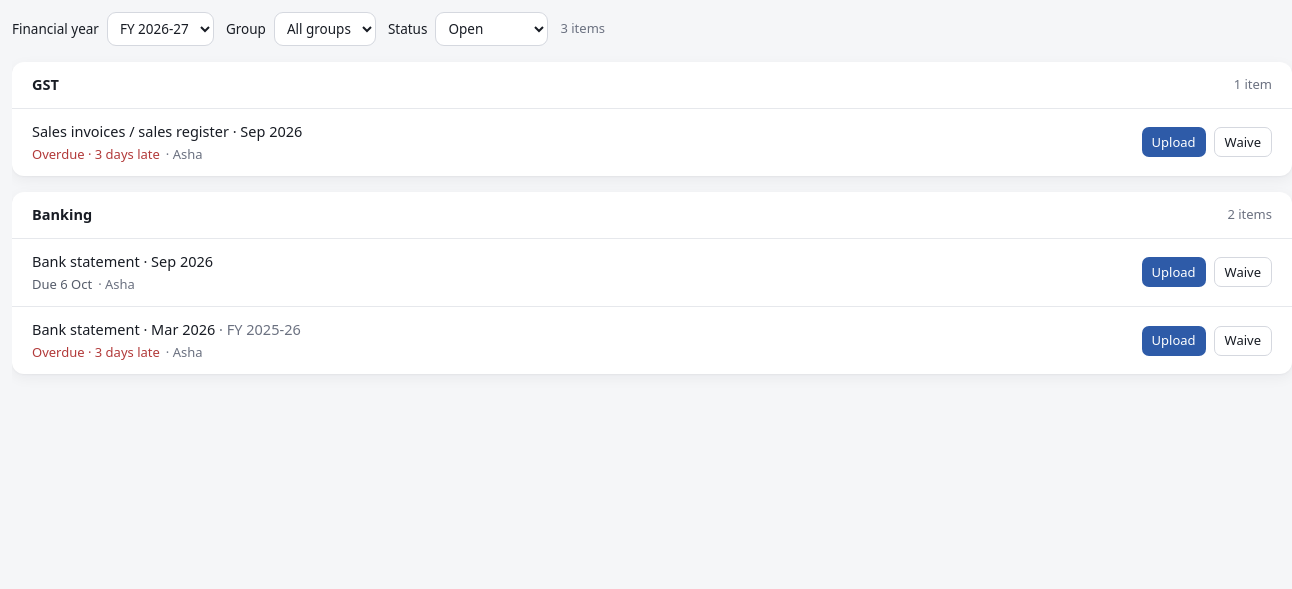
it: ExpectedView (AC-13) › offers Upload + Waive on open items, Reopen on received, Undo on not needed
Select "All" in the dropdown labelled "Status": {"x": 492, "y": 29} [435,12,548,46]
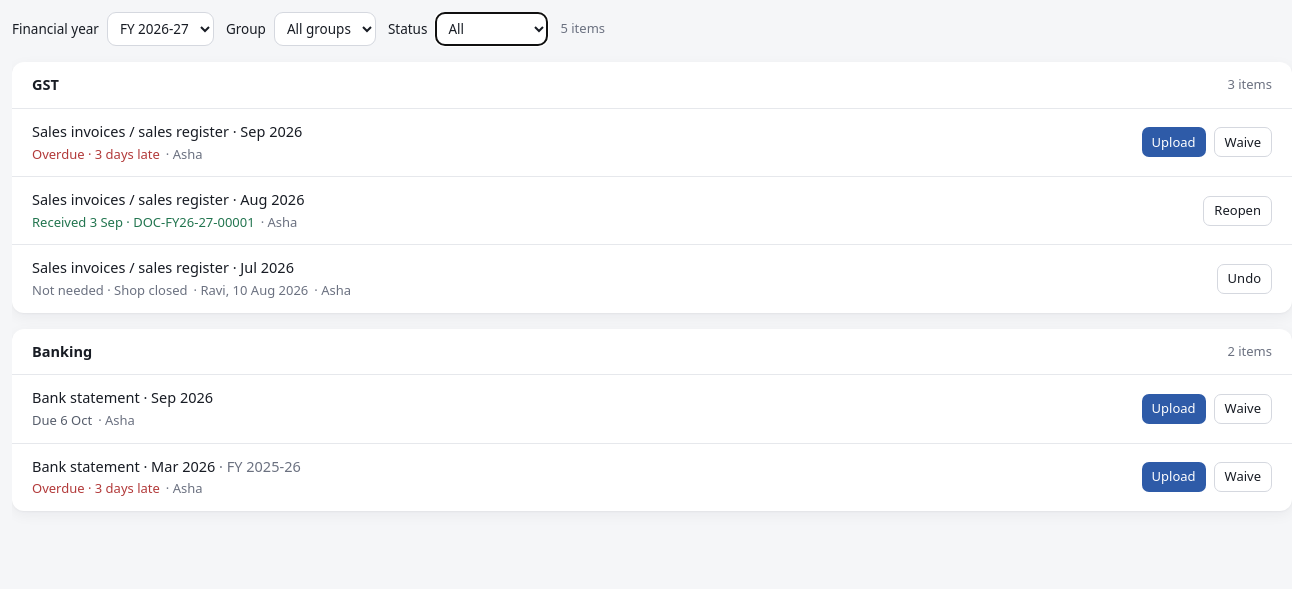
Expected: the link with aria-label "Upload Sales invoices / sales register · Sep 2026" is shown, [1142,127,1206,157]
Now the button named "Undo not needed for Sales invoices / sales register · Jul 2026" is shown, box [1217,264,1272,294]
Reopen asks first ("Still waiting for more?"), then calls the action.
Click the button with aria-label "Reopen Sales invoices / sales register · Aug 2026": {"x": 1238, "y": 211} [1203,196,1272,226]
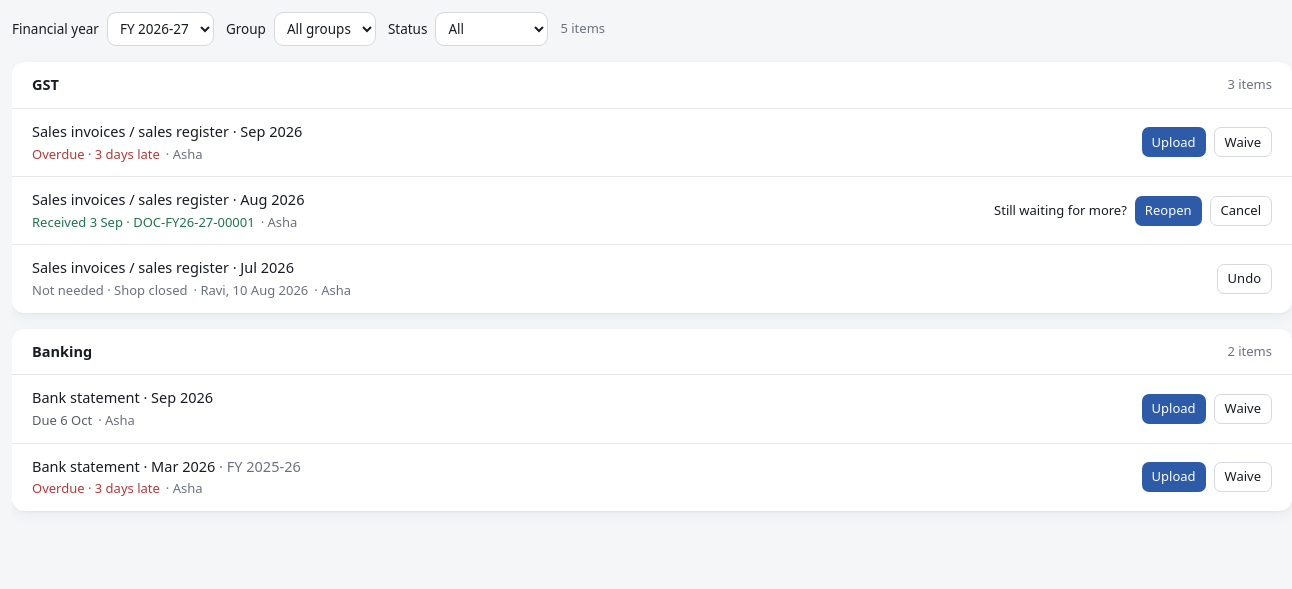
Now the text "Still waiting for more?" is shown, box [994,201,1127,220]
Click the button "Reopen": {"x": 1168, "y": 211} [1135,196,1202,226]
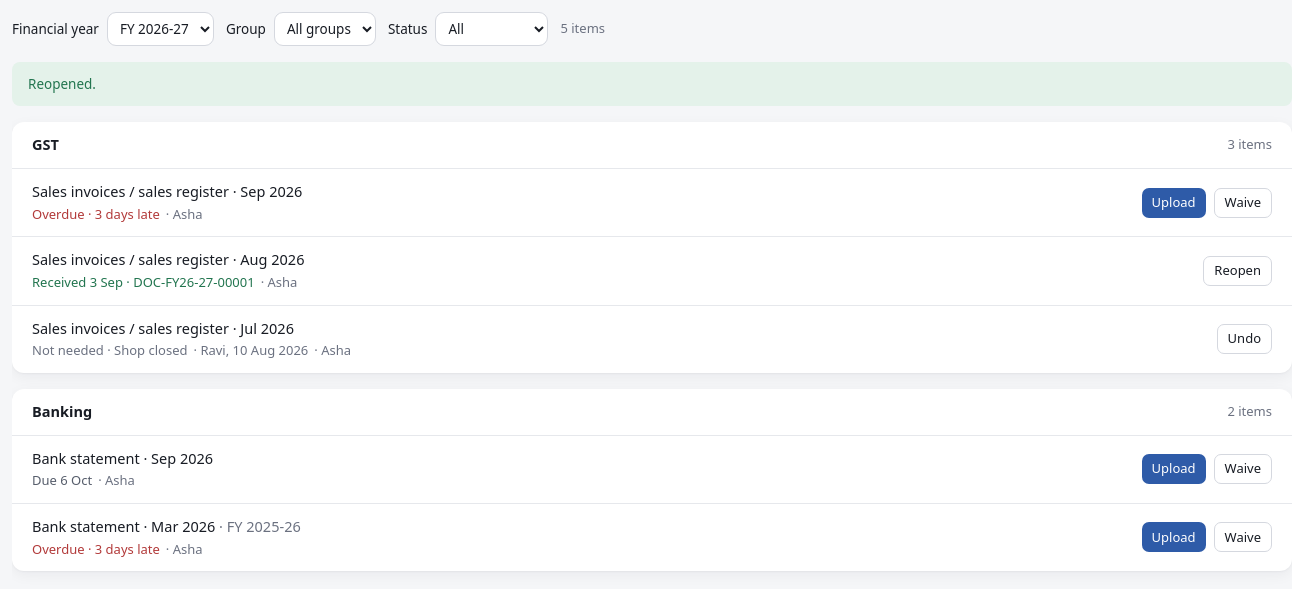
Now the text "Reopened." is shown, box [12,62,1291,106]
